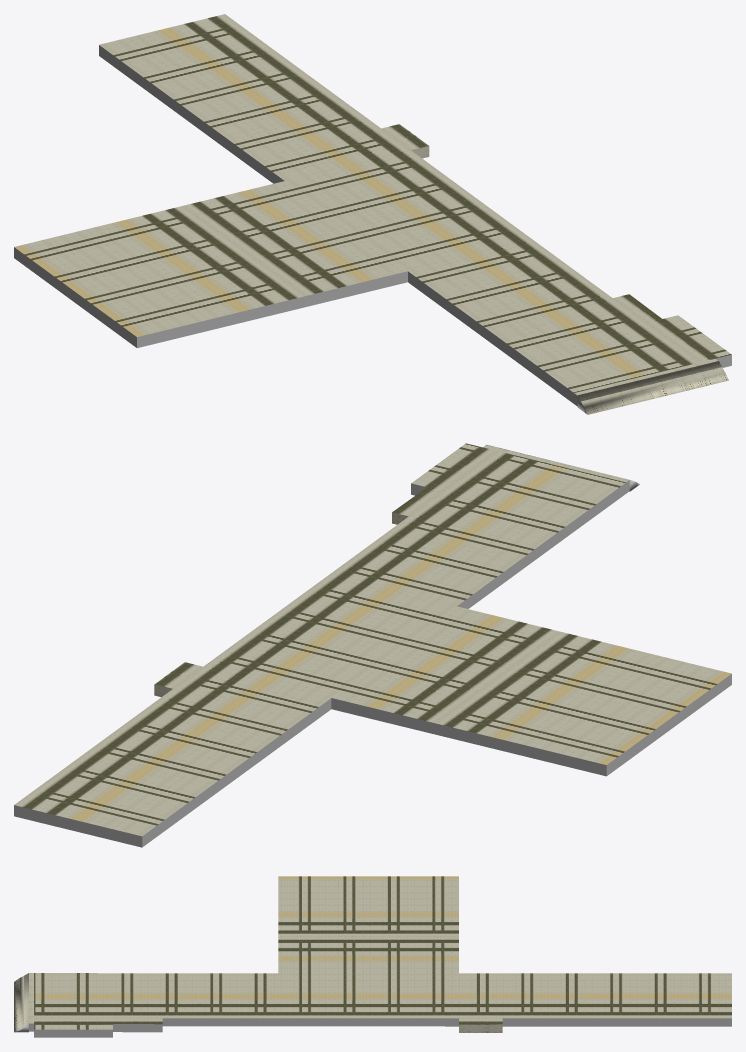
File: scara_intrare_EC1_collider.fbx
3 renders of one model, top to bottom at view 1: azimuth 30°, elevation 25°; view 2: azimuth 150°, elevation 25°; view 3: azimuth 270°, elevation 25°, orthographic. The views are drawn at different scales.
Visible parts, largest first — view 1: Scara_intrare_EC; view 2: Scara_intrare_EC; view 3: Scara_intrare_EC.
Part boxes in pixels (x1,y1,x2,y2): Scara_intrare_EC: (14,14,731,414); Scara_intrare_EC: (14,443,731,847); Scara_intrare_EC: (14,876,731,1037).
Size of the model in its own units: 1819 by 49.27 by 3600.
